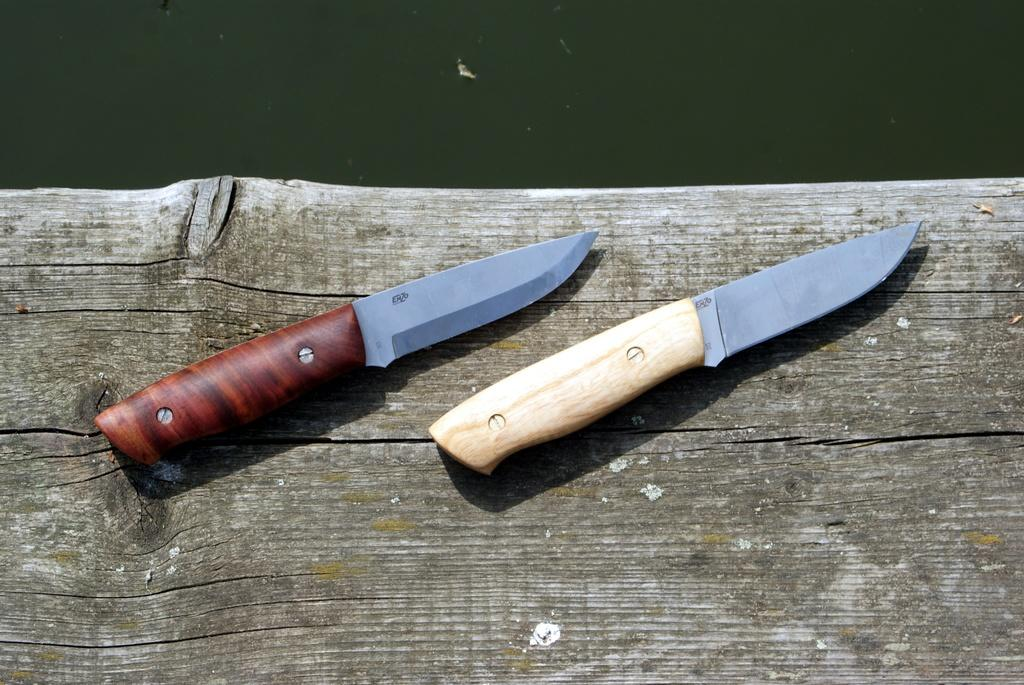Knife: (429, 217, 922, 475), (90, 232, 598, 462)
